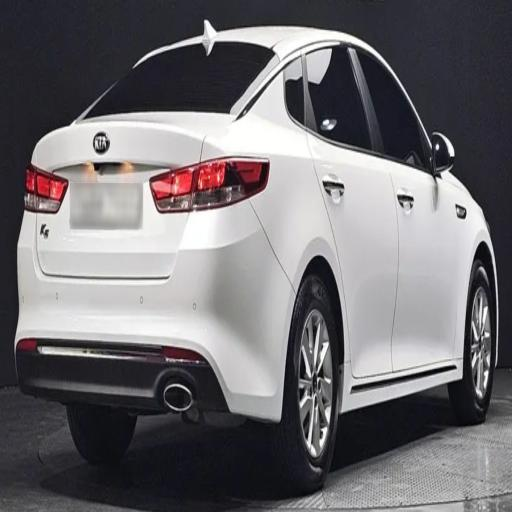normal: (14, 10, 498, 466)
